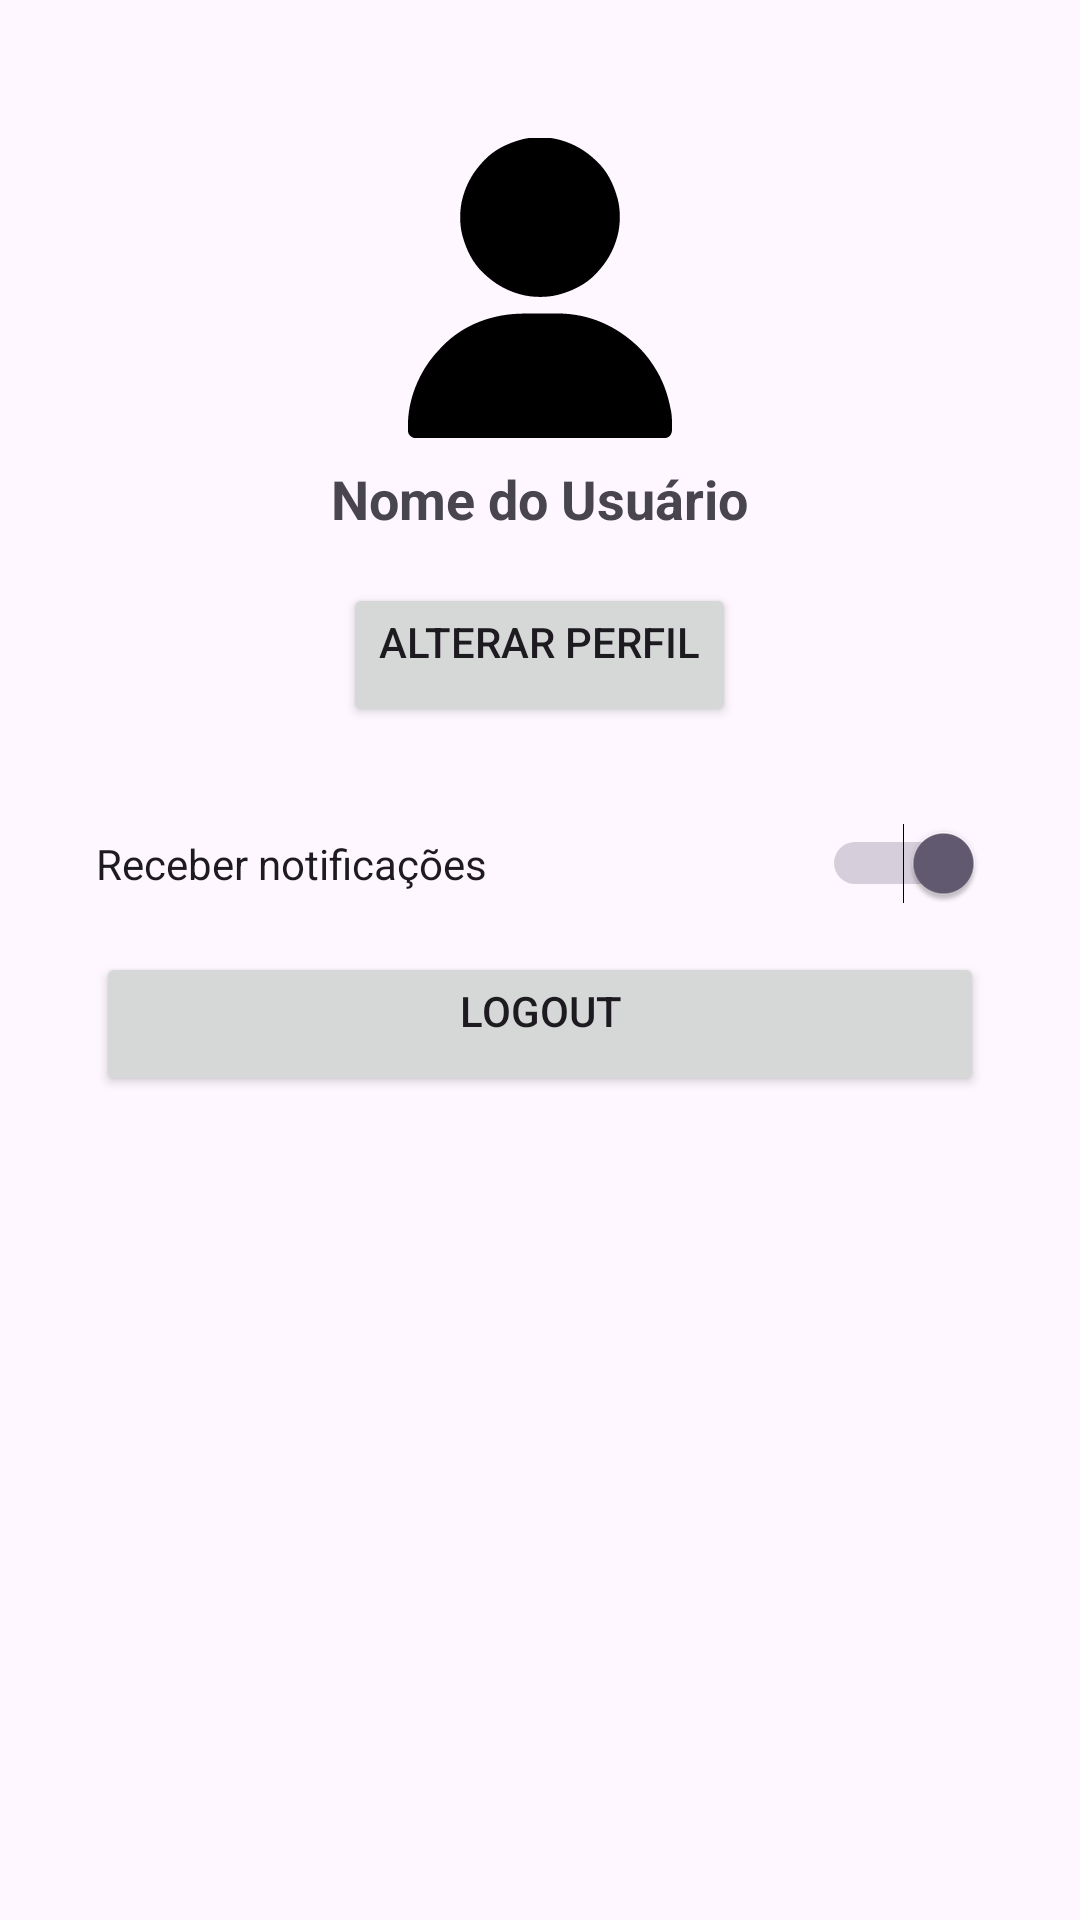

Where icons sit on this 1080×1920 app screen, as (x1, y1, x2, y2):
User Image: (408, 138, 672, 438)
